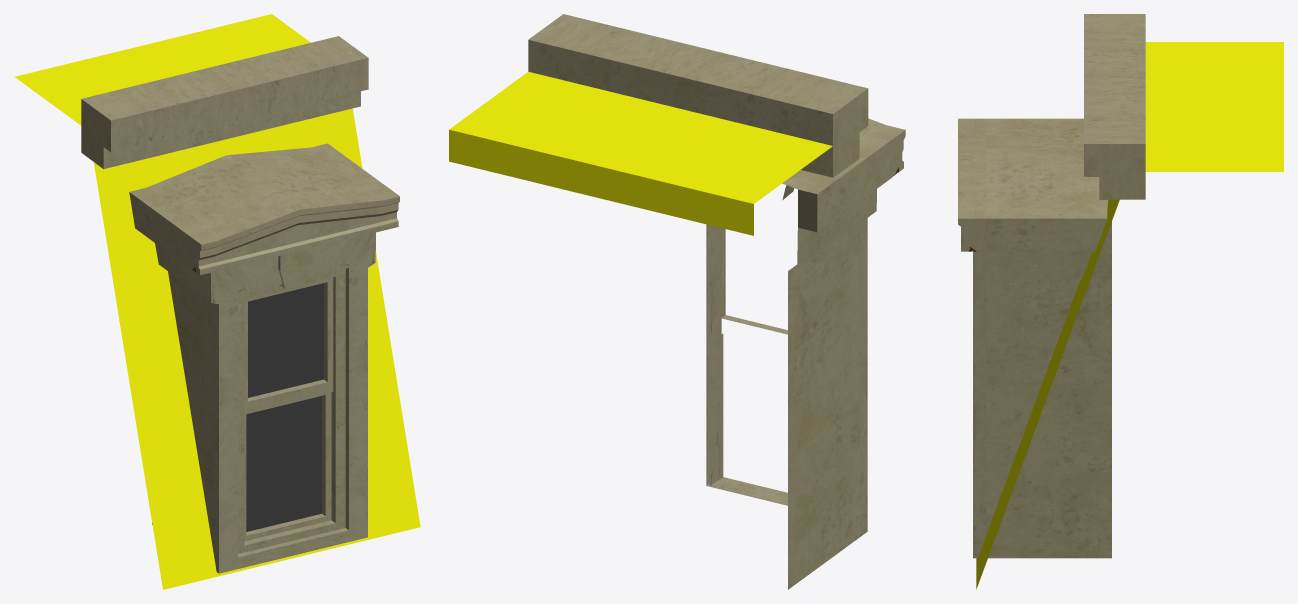
The model's file is roof-slatecornice-window-1.glb.
The picture shows the model from 3 angles, left to right: view 1: azimuth 30°, elevation 25°; view 2: azimuth 150°, elevation 25°; view 3: azimuth 270°, elevation 25°; orthographic projection. The views are drawn at different scales.
Parts seen in each view (by area): view 1: Roof_SlateCornice_Window_1; view 2: Roof_SlateCornice_Window_1; view 3: Roof_SlateCornice_Window_1.
Part boxes in pixels (x1,y1,x2,y2): Roof_SlateCornice_Window_1: [14, 14, 420, 589]; Roof_SlateCornice_Window_1: [449, 14, 905, 589]; Roof_SlateCornice_Window_1: [958, 14, 1283, 589].
Size of the model in its own units: 2 by 3.2 by 2.12.
Materials: 5 (1 with a texture image).
